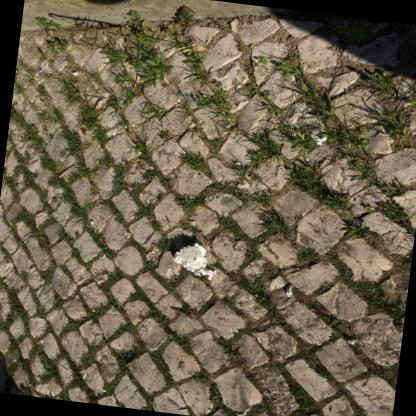Waste: (172, 241, 216, 279), (317, 135, 327, 143), (286, 284, 292, 296), (236, 182, 243, 188), (347, 338, 355, 343)
